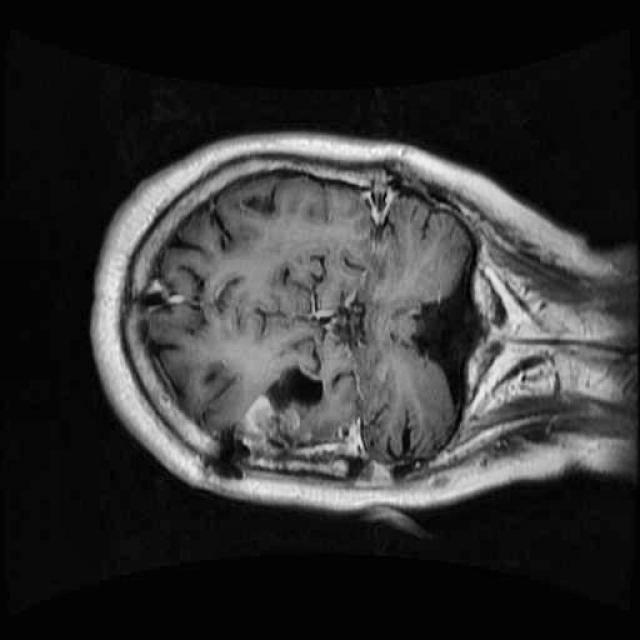Non-Tumor: (231, 379, 319, 470)
